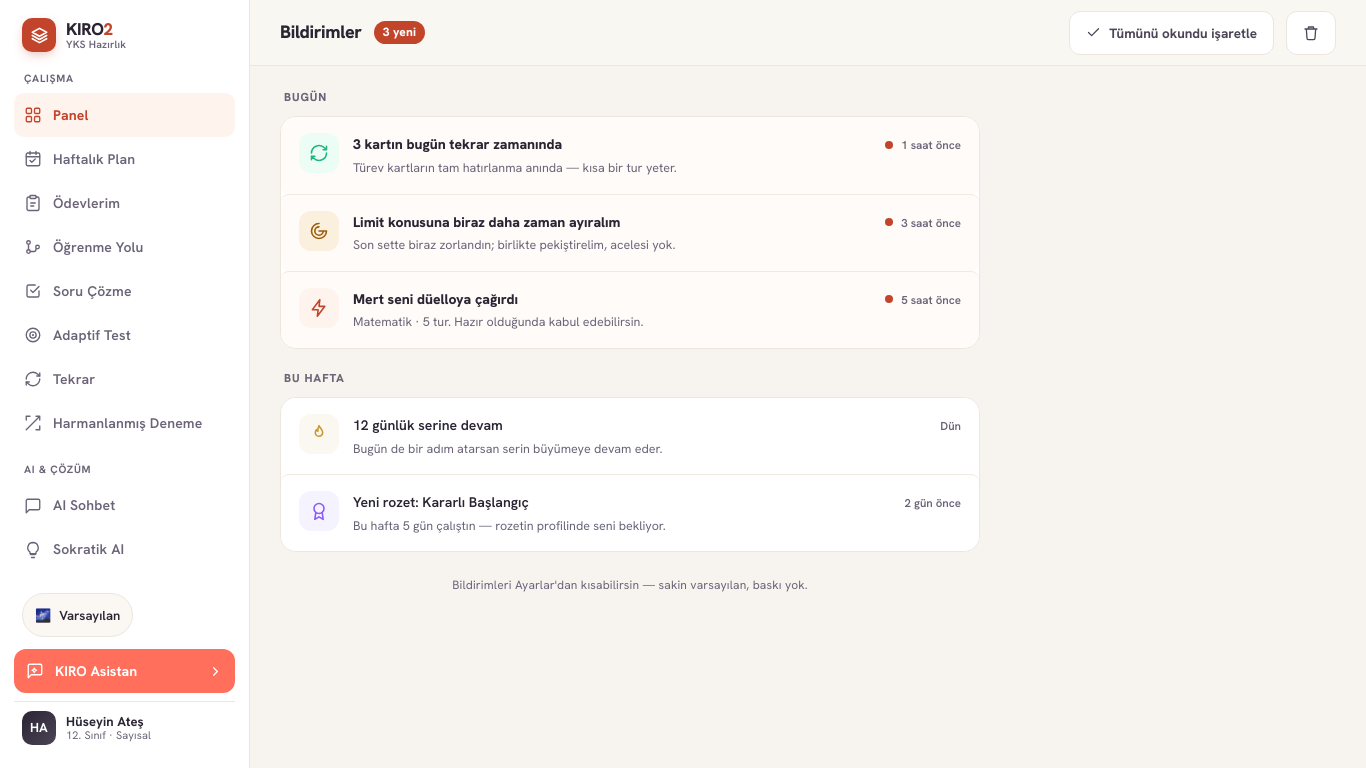
Test case: BildirimMerkeziPage › tek bildirimi okundu işaretleyince sayaç optimistik düşer (3 → 2)
Expected: the text "3 yeni" is shown, [374,21,425,44]
Click the button "3 kartın bugün tekrar zamanında": (319, 153) [281,117,979,194]
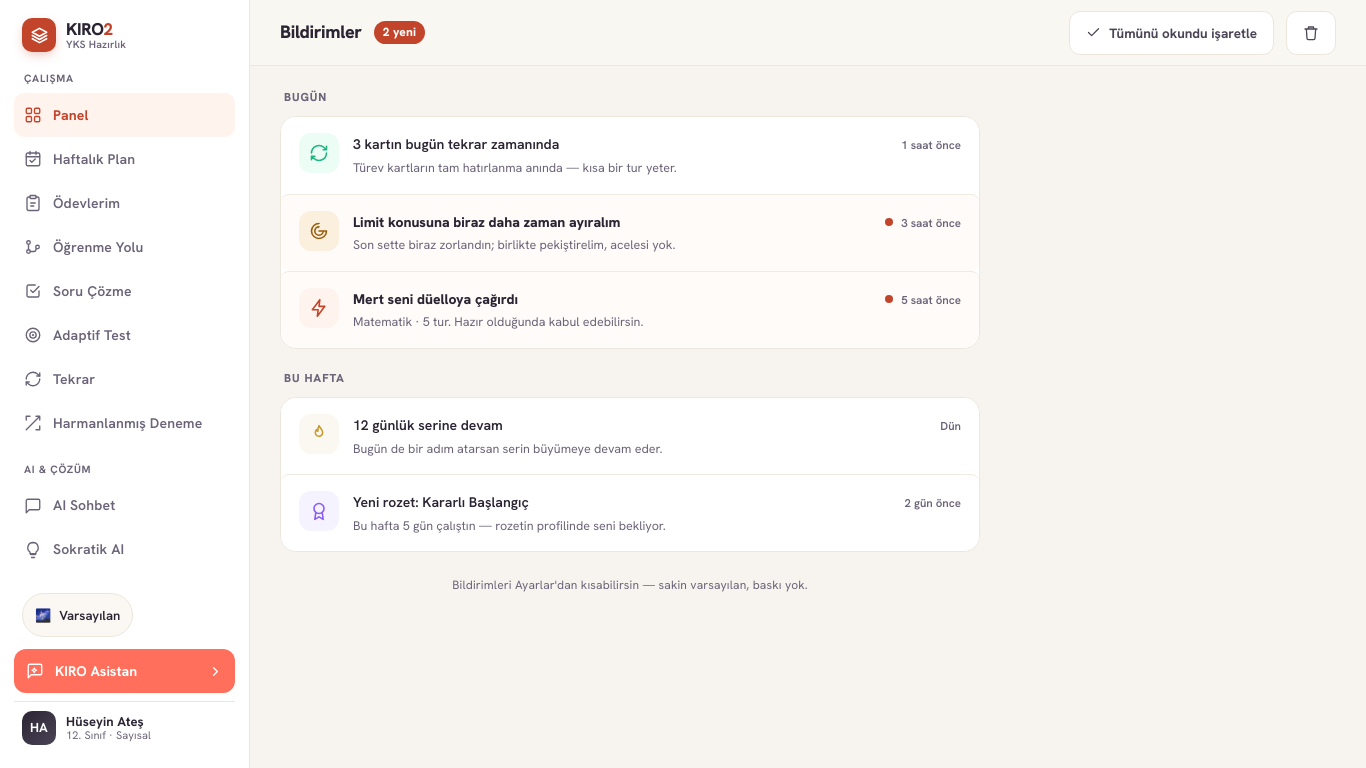
Expected: the text "2 yeni" is shown, [374,21,425,44]
